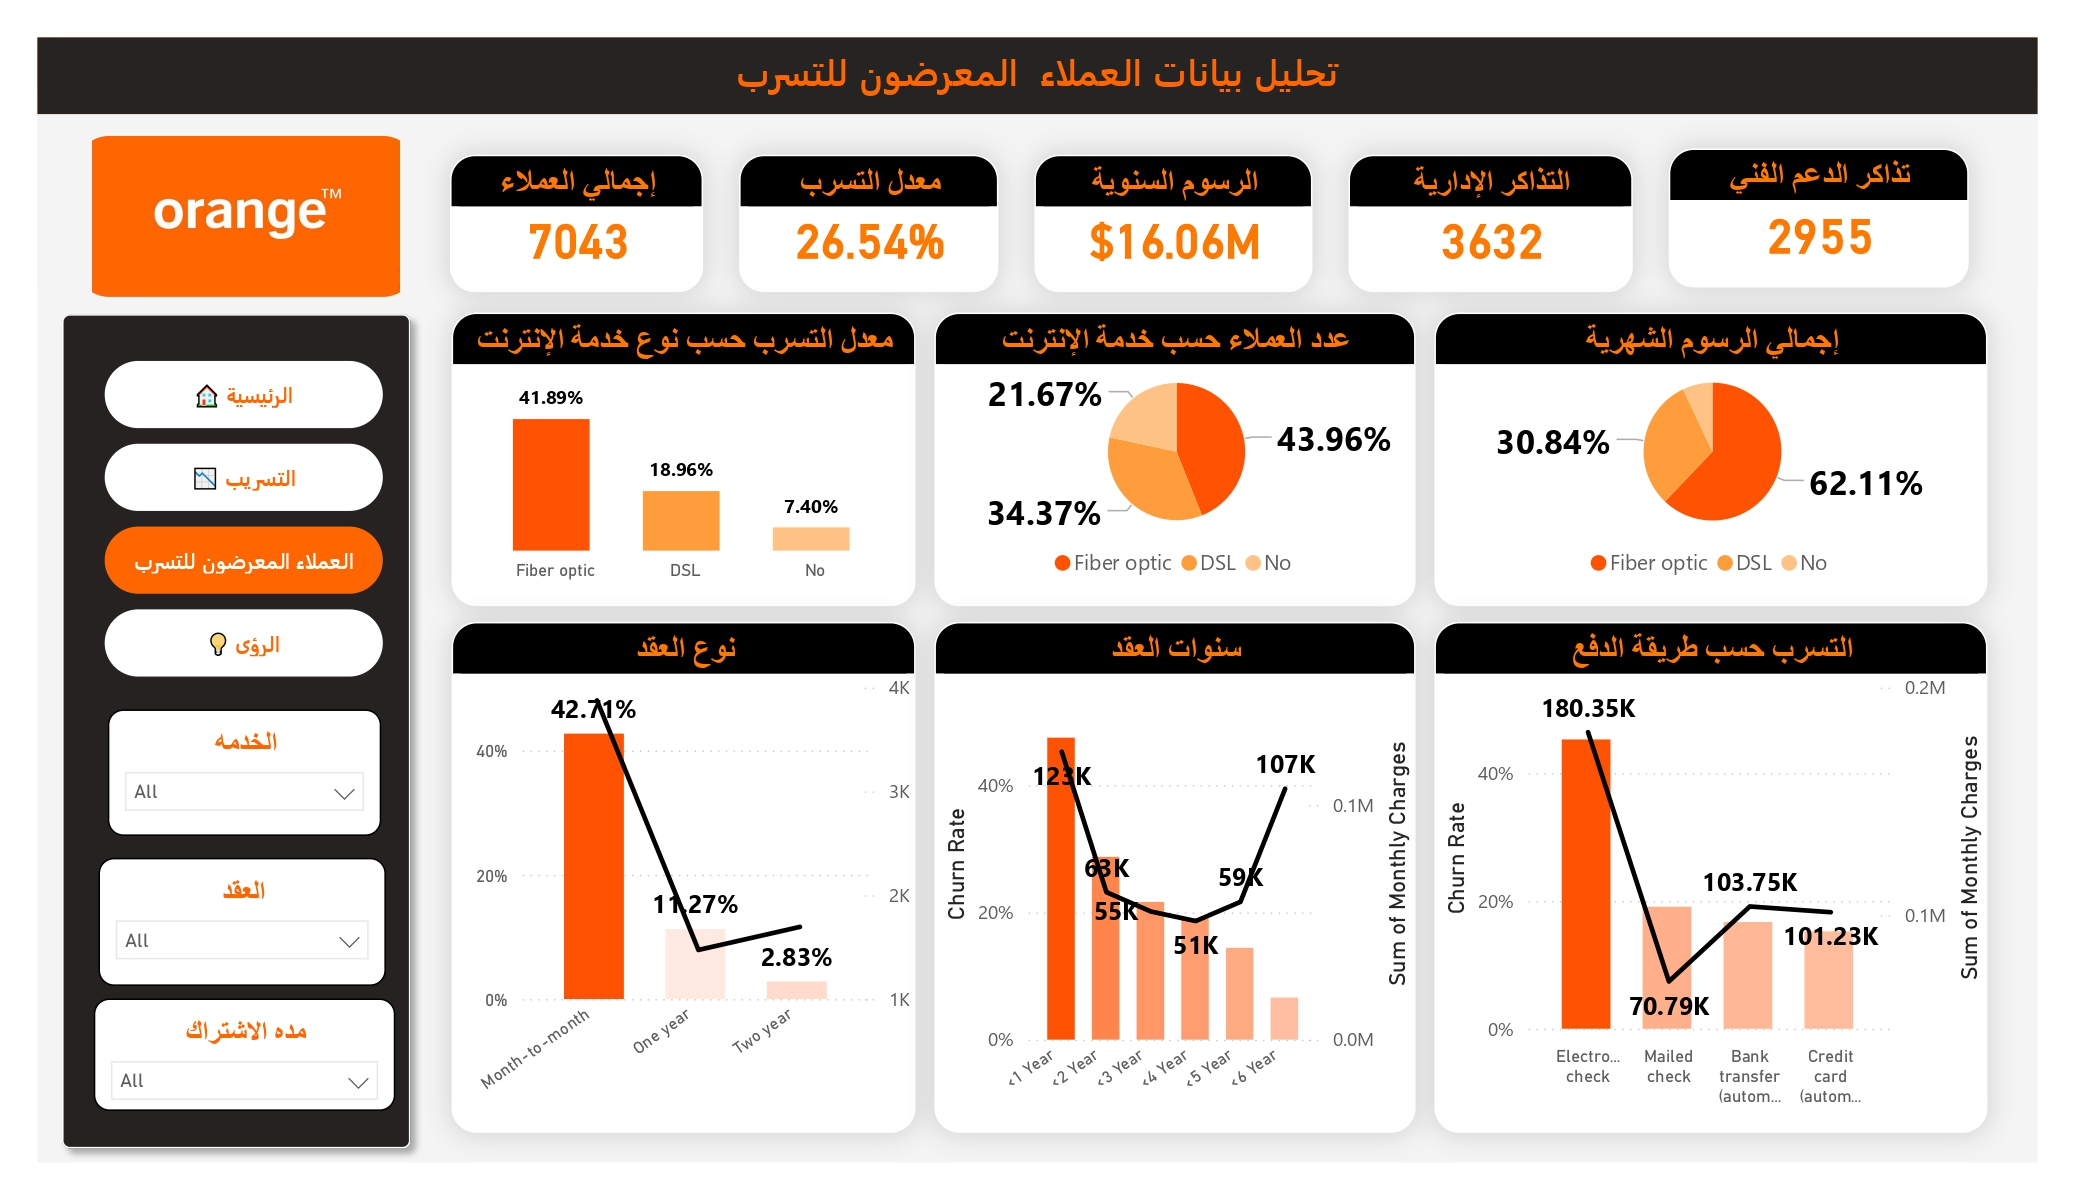

The page's visual inventory and layout, read from the dashboard file:
{"tool":"powerbi","page":{"name":"العملاء المعرضون للتسرب","canvas":[1280,720],"ordinal":2},"visuals":[{"type":"shape","box":[0,0,1280,49],"z":0},{"type":"textbox","box":[0,0,1279.8,48.8],"z":1000},{"type":"shape","box":[7.1,167.9,240.5,552.4],"z":2000},{"type":"card","title":"إجمالي العملاء","fields":{"Values":["CountNonNull(01 Churn-Dataset.customerID)"]},"box":[264.3,75,161.9,88.1],"z":3000},{"type":"card","title":"معدل التسرب","fields":{"Values":["Churn.% Churn Rate"]},"box":[449.2,75,166,88],"z":4000},{"type":"card","title":"الرسوم السنوية","fields":{"Values":["Sum(Churn.TotalCharges)"]},"box":[638.1,75,178,88],"z":5000},{"type":"card","title":"التذاكر  الإدارية","fields":{"Values":["Sum(Churn.numAdminTickets)"]},"box":[839.1,75,182,88],"z":6000},{"type":"card","title":"تذاكر الدعم الفني","fields":{"Values":["Sum(Churn.numTechTickets)"]},"box":[1044.1,71.4,191.7,88.1],"z":7000},{"type":"columnChart","title":"معدل التسرب حسب نوع خدمة الإنترنت","fields":{"Y":["Churn.% Churn Rate"],"Category":["Churn.InternetService"]},"box":[264.7,175.8,297,188],"z":8000},{"type":"pieChart","title":"عدد العملاء حسب خدمة الإنترنت","fields":{"Y":["CountNonNull(Churn.customerID)"],"Category":["Churn.InternetService"]},"box":[573.7,175.8,308,188],"z":9000},{"type":"pieChart","title":"إجمالي الرسوم الشهرية","fields":{"Category":["Churn.InternetService"],"Y":["Sum(Churn.MonthlyCharges)"]},"box":[894.1,176.2,353.6,188.1],"z":10000},{"type":"lineStackedColumnComboChart","title":"نوع العقد","fields":{"Y2":["CountNonNull(Churn.customerID)"],"Y":["Churn.% Churn Rate"],"Category":["Churn.Contract"]},"box":[264.7,373.8,297,327],"z":11000},{"type":"lineStackedColumnComboChart","title":"سنوات العقد","fields":{"Y":["Churn.% Churn Rate"],"Y2":["Sum(Churn.MonthlyCharges)"],"Category":["Churn.Tenure(in years)"]},"box":[573.7,373.8,308,327],"z":12000},{"type":"lineStackedColumnComboChart","title":"التسرب حسب طريقة الدفع","fields":{"Y":["Churn.% Churn Rate"],"Y2":["Sum(Churn.MonthlyCharges)"],"Category":["Churn.PaymentMethod"]},"box":[894.1,373.8,353.6,327.4],"z":13000},{"type":"slicer","title":"الخدمه","fields":{"Values":["Churn.InternetService"]},"box":[45.2,429.8,175,81],"z":14000},{"type":"slicer","title":"مده الاشتراك","fields":{"Values":["Churn.tenure"]},"box":[35.7,615.5,192.9,71.4],"z":15000},{"type":"slicer","title":"العقد","fields":{"Values":["Churn.Contract"]},"box":[39.3,525,183.3,82.1],"z":16000},{"type":"pageNavigator","box":[42.9,207.1,178.6,204.8],"z":17000},{"type":"image","box":[19,58.3,228.6,113.1],"z":18000}]}

Visuals, with their boxes on the page's 1280x720 design canvas (x1, y1, x2, y2). These are canvas units, not pixel positions in the 2075x1200 screenshot, which may show the page scaled, cropped or inside an application window:
shape: [0,0,1280,49]
textbox: [0,0,1280,49]
shape: [7,168,248,720]
"إجمالي العملاء" card: [264,75,426,163]
"معدل التسرب" card: [449,75,615,163]
"الرسوم السنوية" card: [638,75,816,163]
"التذاكر  الإدارية" card: [839,75,1021,163]
"تذاكر الدعم الفني" card: [1044,71,1236,160]
"معدل التسرب حسب نوع خدمة الإنترنت" columnChart: [265,176,562,364]
"عدد العملاء حسب خدمة الإنترنت" pieChart: [574,176,882,364]
"إجمالي الرسوم الشهرية" pieChart: [894,176,1248,364]
"نوع العقد" lineStackedColumnComboChart: [265,374,562,701]
"سنوات العقد" lineStackedColumnComboChart: [574,374,882,701]
"التسرب حسب طريقة الدفع" lineStackedColumnComboChart: [894,374,1248,701]
"الخدمه" slicer: [45,430,220,511]
"مده الاشتراك" slicer: [36,616,229,687]
"العقد" slicer: [39,525,223,607]
pageNavigator: [43,207,222,412]
image: [19,58,248,171]
